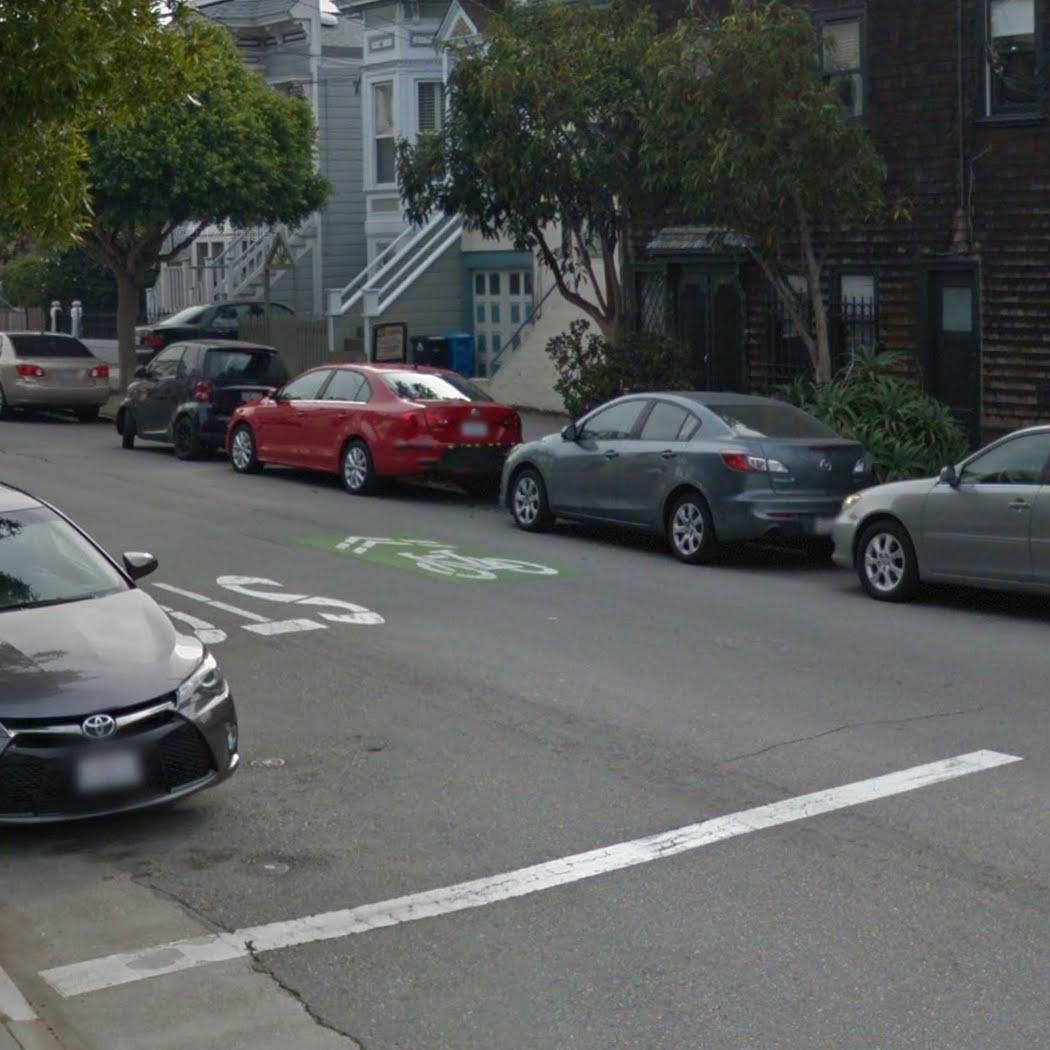No Parking: (370, 320, 410, 366)
